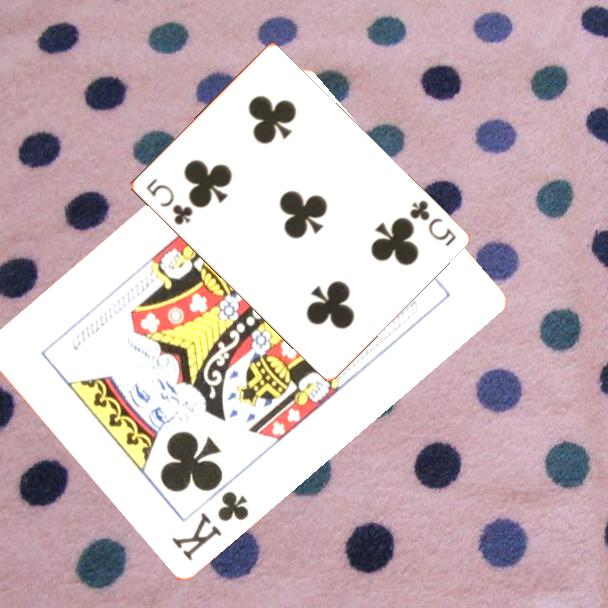c05: (142, 175, 196, 228), (405, 196, 459, 249)
c13: (167, 487, 252, 565)
